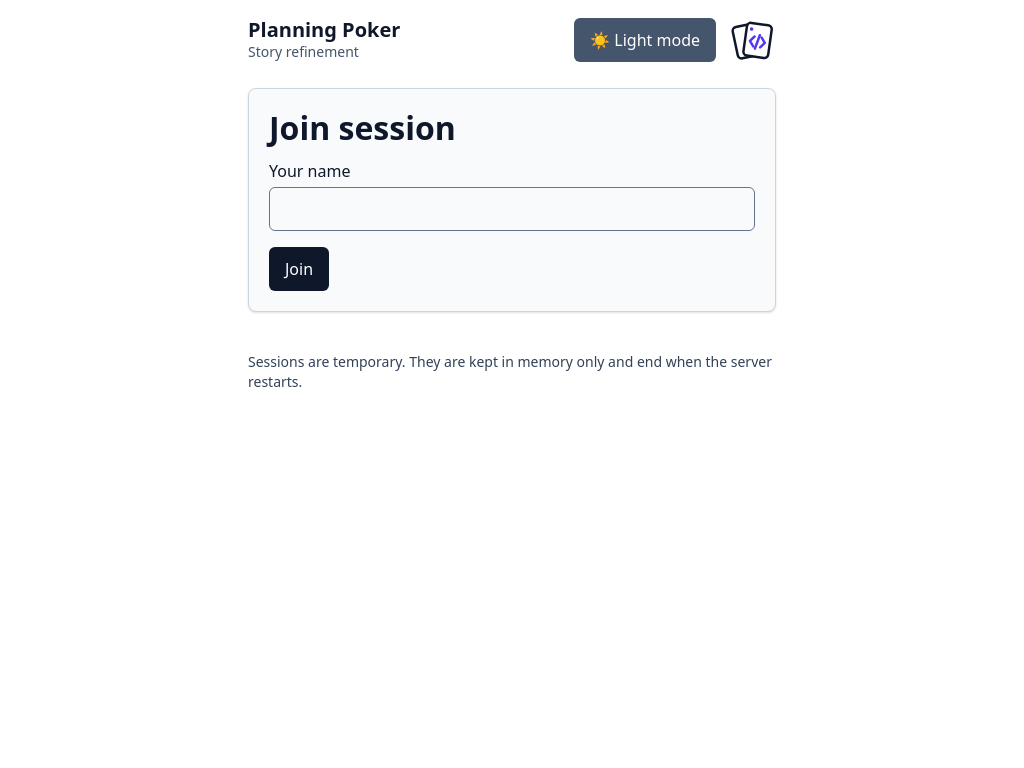
Test: GamePage › join prompt › shows NAME_TAKEN, keeps the value and lets the visitor retry
Type "anna" into the field labelled "Your name" at coordinates (512, 209), box [269,187,755,231]
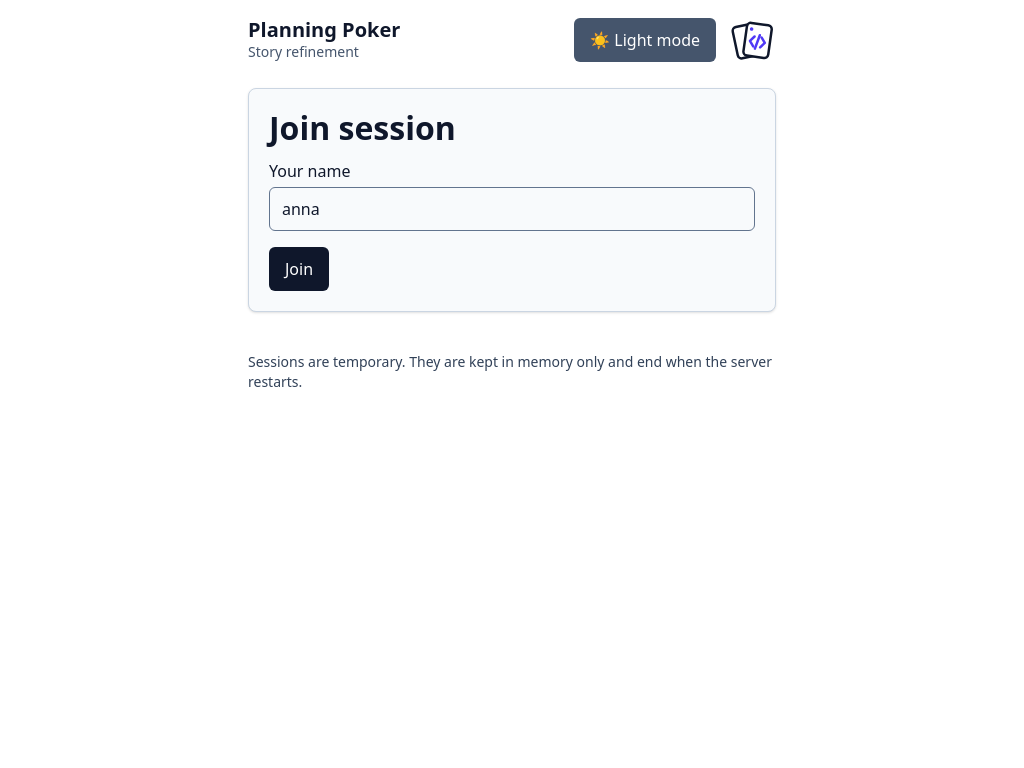
Click the button "Join" at coordinates (299, 269), box [269,247,329,291]
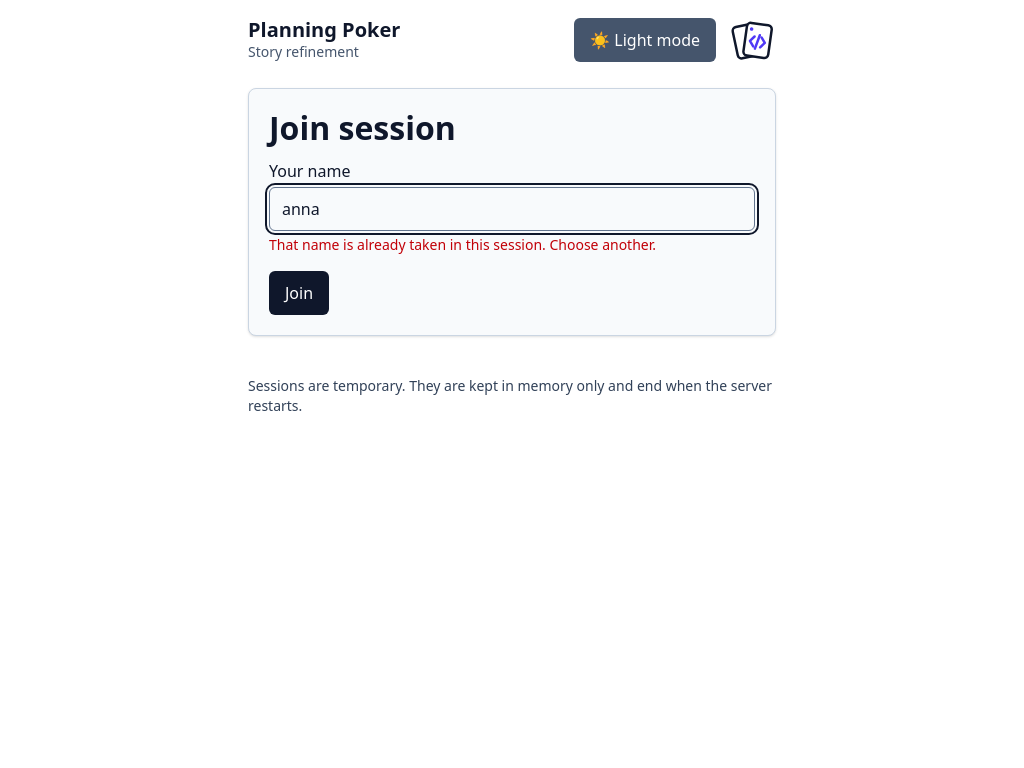
Check: the text "That name is already taken in this session. Choose another." is shown, box [269,235,656,254]
Replace the text in the field labelled "Your name" with "Anna B" at coordinates (512, 209), box [269,187,755,231]
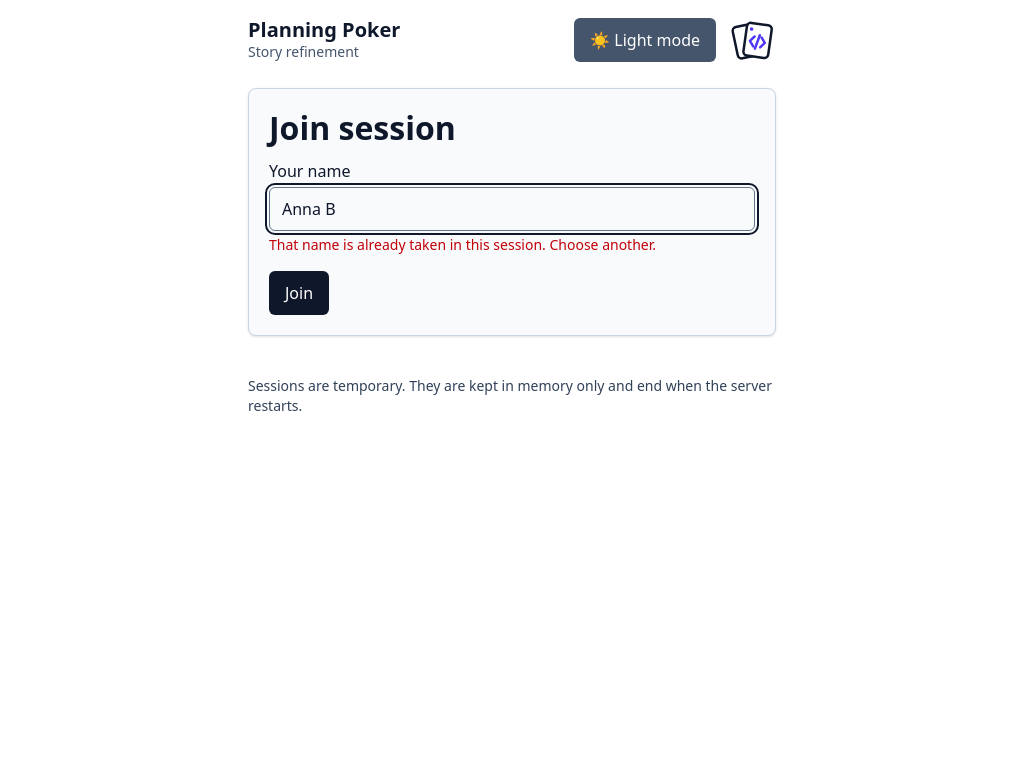
Click the button "Join" at coordinates (299, 293), box [269,271,329,315]
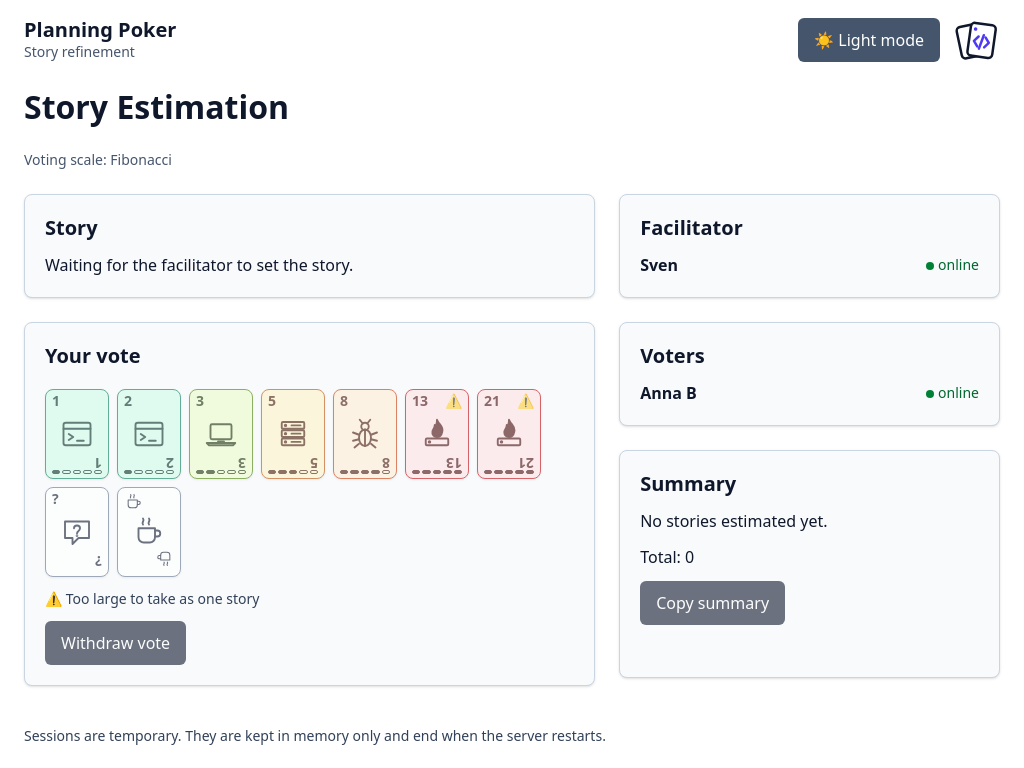
Check: the text "Anna B" is shown, box [640,381,697,405]
